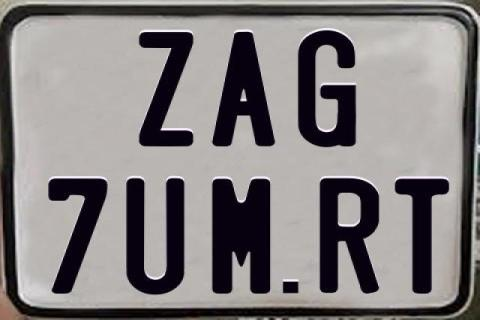0: (48, 176, 113, 293)
A: (209, 30, 277, 150)
G: (298, 31, 362, 151)
M: (211, 178, 270, 294)
R: (320, 176, 380, 296)
T: (395, 176, 454, 291)
U: (126, 178, 189, 298)
Z: (136, 31, 191, 151)
